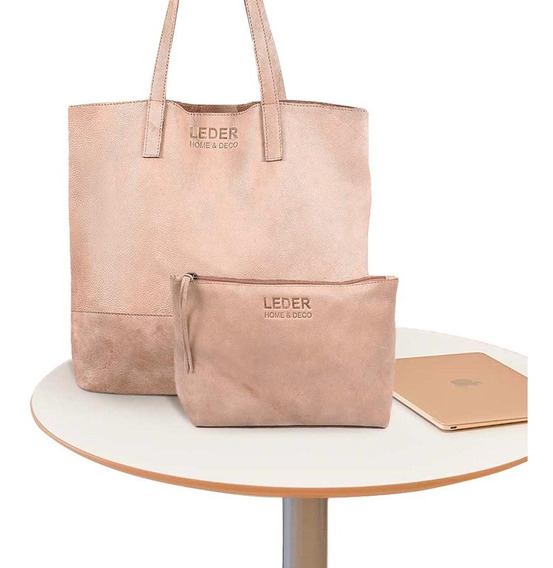cartera: (65, 2, 372, 401)
